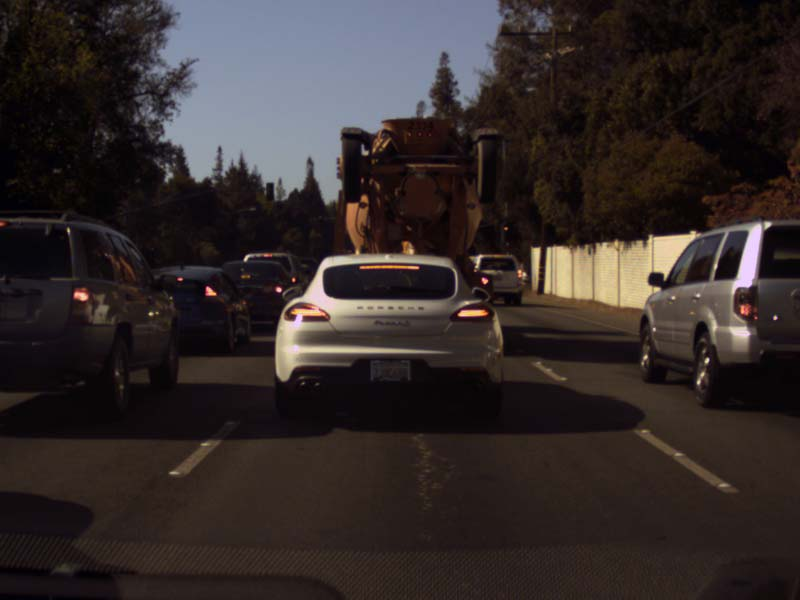Red: (502, 225, 509, 231), (318, 214, 324, 220)
